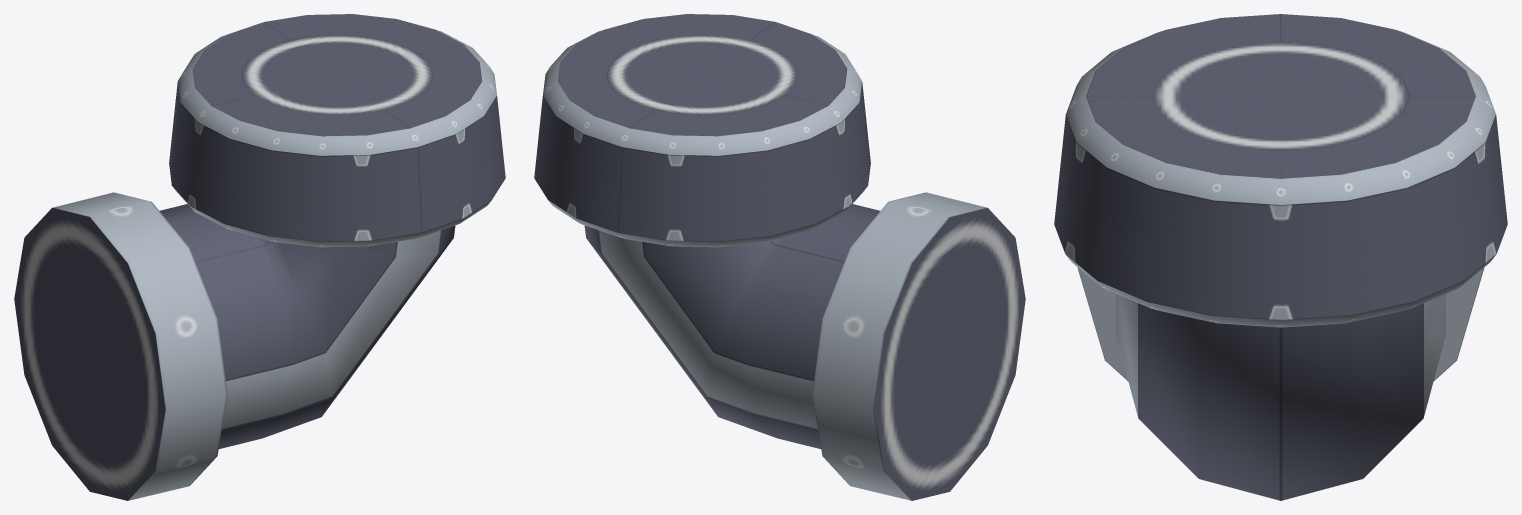
The model's file is Joystick_Support_02.FBX.
3 views of the same model, side by side, from view 1: azimuth 30°, elevation 25°; view 2: azimuth 150°, elevation 25°; view 3: azimuth 270°, elevation 25° (orthographic). The views are drawn at different scales.
Parts seen in each view (by area): view 1: Joystick_Support_02; view 2: Joystick_Support_02; view 3: Joystick_Support_02.
Boxes of the visible parts, x1=… form: Joystick_Support_02: x1=14, y1=14, x2=505, y2=500; Joystick_Support_02: x1=534, y1=14, x2=1025, y2=500; Joystick_Support_02: x1=1054, y1=14, x2=1507, y2=500.
Size of the model in its own units: 1.59 by 1.38 by 1.18.
